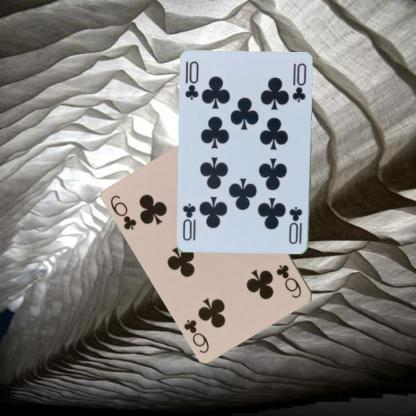10c: (182, 59, 200, 101), (286, 204, 303, 246)
6c: (108, 192, 138, 232), (274, 262, 304, 300)
